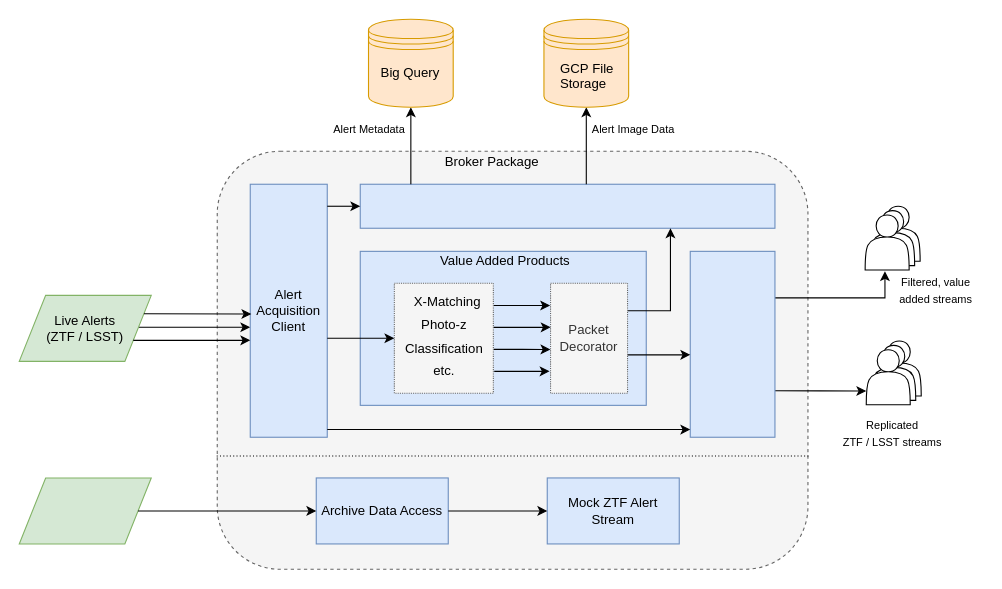
Some shapes in this 1002 by 589 pixel diagram are drawn without their labels. Here are the shapes that lost their labels. From the top down, the centre of each, then its label:
At (567,205): "Data Upload Module (stream and bulk)".
At (732,343): "Alert Filtering and Distribution (Kafka / PubSub)".
At (84,510): "ZTF Public Alerts Archive".
